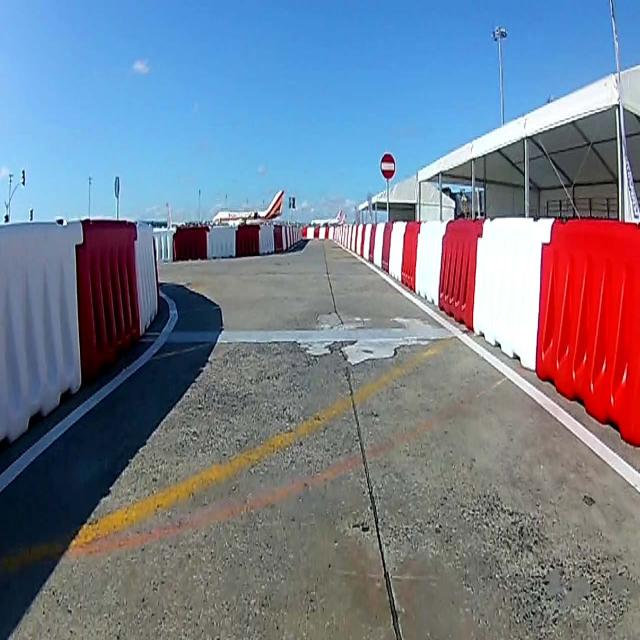girisyok: (380, 152, 396, 180)
